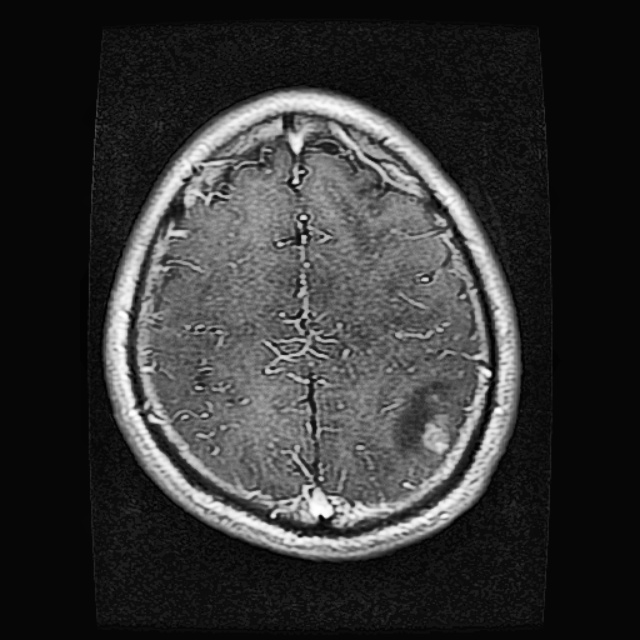Glioma: (399, 377, 467, 470)
